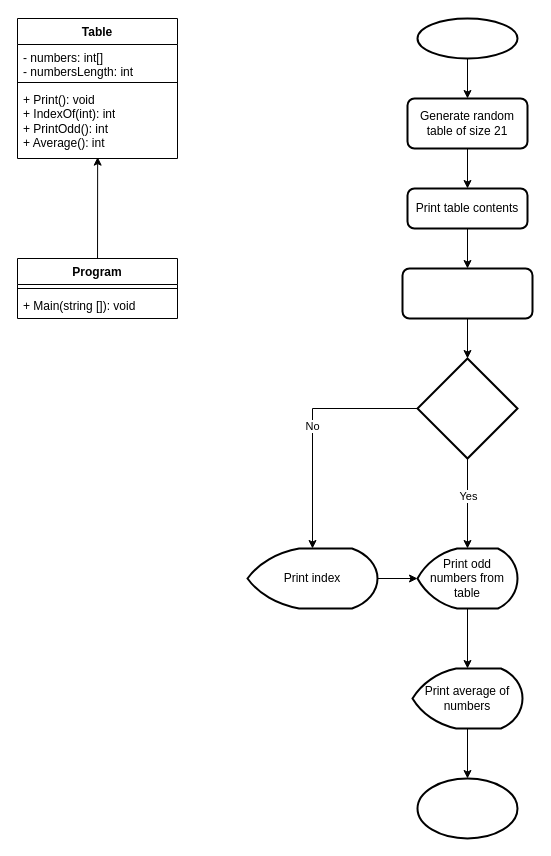
Image size: 551x856. Some labels were removed from this diagram. The shapes that lost their labels are listed below. From the top down, each one's centre as x and y in pixels, then its label:
At (x=467, y=38): "Start".
At (x=467, y=293): "Search for number 10 in table".
At (x=467, y=408): "index = -1?".
At (x=467, y=808): "End".
